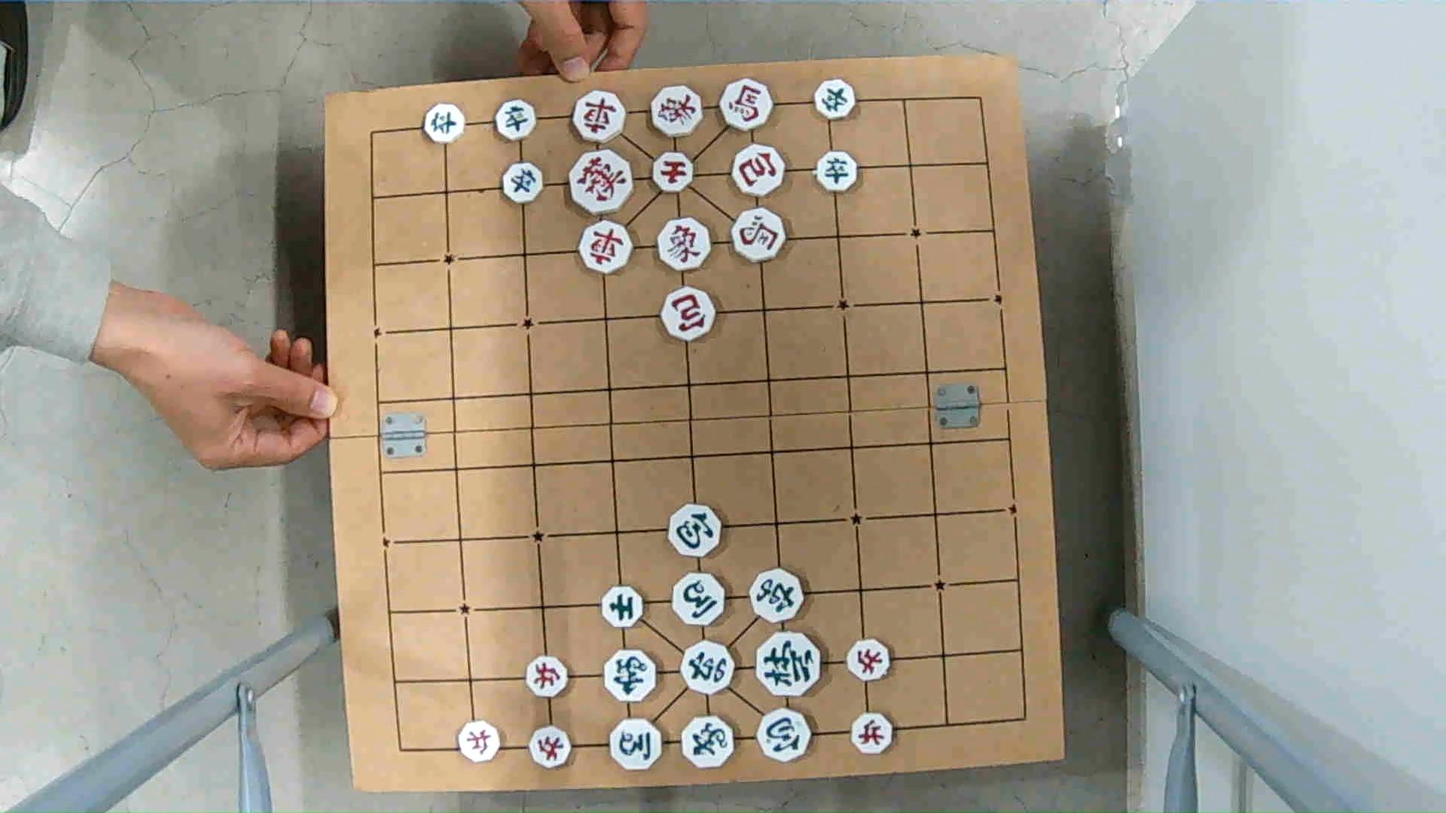cha_green: (748, 568, 805, 624), (681, 644, 737, 693)
cha_red: (578, 222, 633, 271), (573, 95, 627, 142)
jol_green: (814, 154, 859, 192), (499, 163, 541, 202), (810, 81, 853, 119), (497, 103, 539, 141), (426, 105, 465, 143)
jol_red: (527, 725, 575, 767), (850, 712, 892, 758), (523, 656, 569, 696), (846, 641, 892, 680), (458, 722, 503, 760)
ma_green: (610, 721, 667, 771), (670, 574, 727, 624)
ma_red: (734, 210, 786, 263), (721, 82, 776, 129)
po_green: (756, 710, 813, 760), (667, 508, 722, 556)
po_red: (659, 290, 715, 340), (731, 148, 786, 196)
sa_green: (599, 585, 645, 628)
sa_red: (651, 154, 695, 192)
sang_green: (605, 650, 662, 705), (683, 718, 734, 770)
sang_red: (660, 218, 716, 269), (650, 90, 704, 139)
wang_green: (755, 632, 822, 696)
wang_red: (570, 153, 634, 211)
